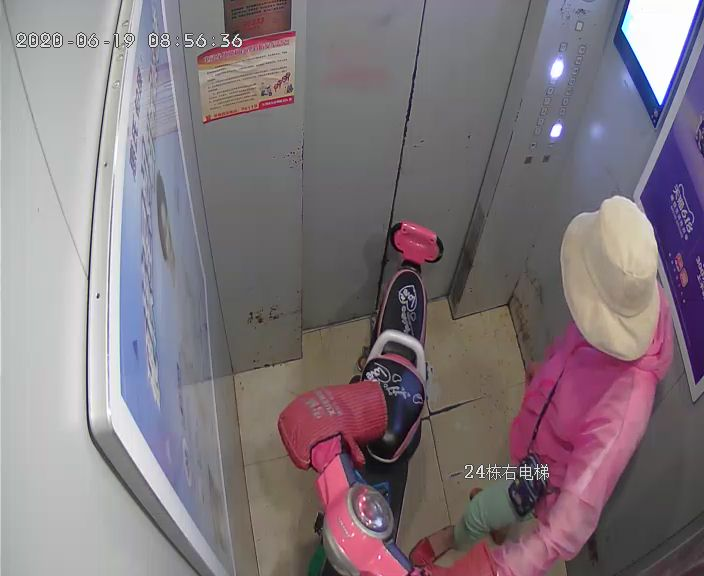Electric-bicycle: (286, 221, 542, 574)
